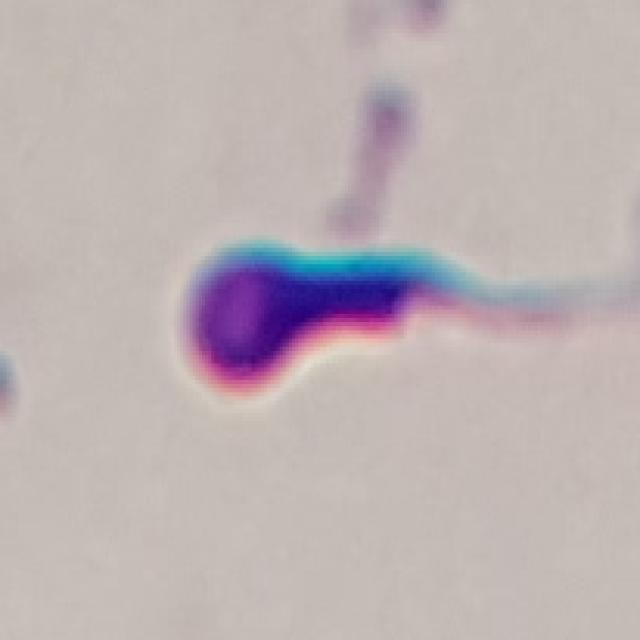abnormal sperm: (177, 231, 640, 409)
